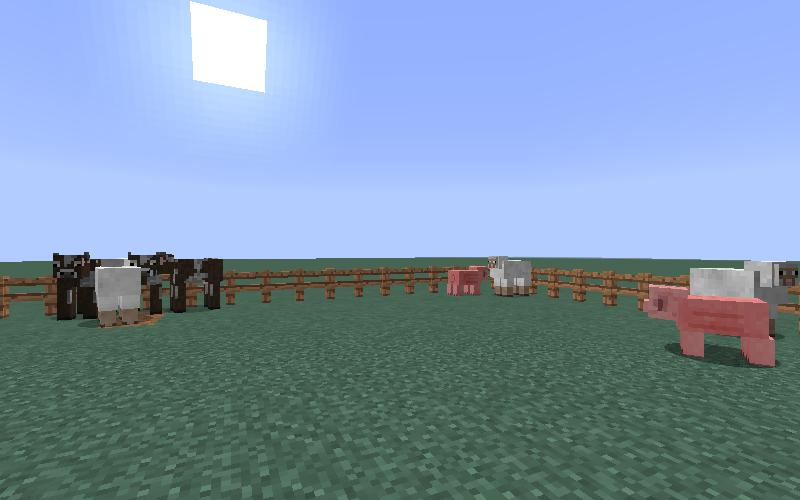cow: (154, 251, 224, 317), (49, 250, 92, 324)
pig: (639, 279, 783, 377), (443, 262, 488, 301)
sheep: (688, 259, 798, 301), (91, 264, 145, 332), (486, 254, 534, 299)
